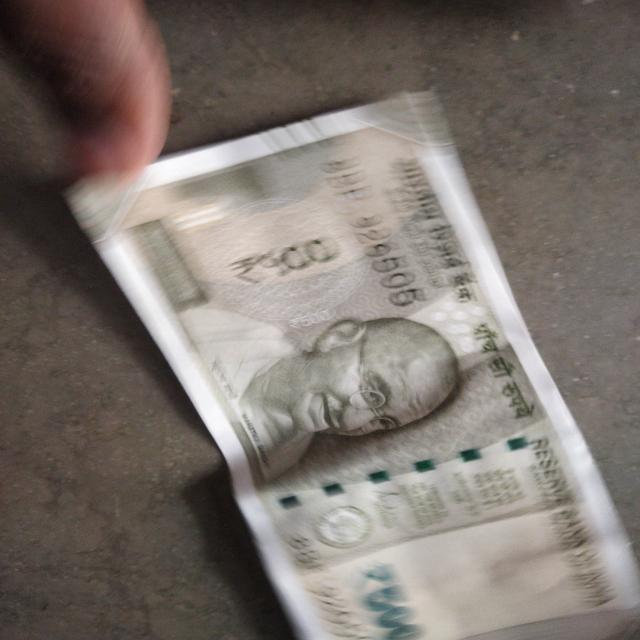500rs: (109, 181, 640, 640)
